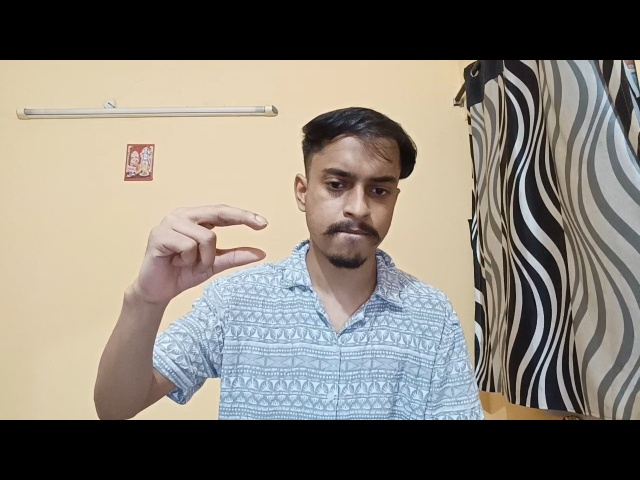No: (136, 182, 293, 308)
